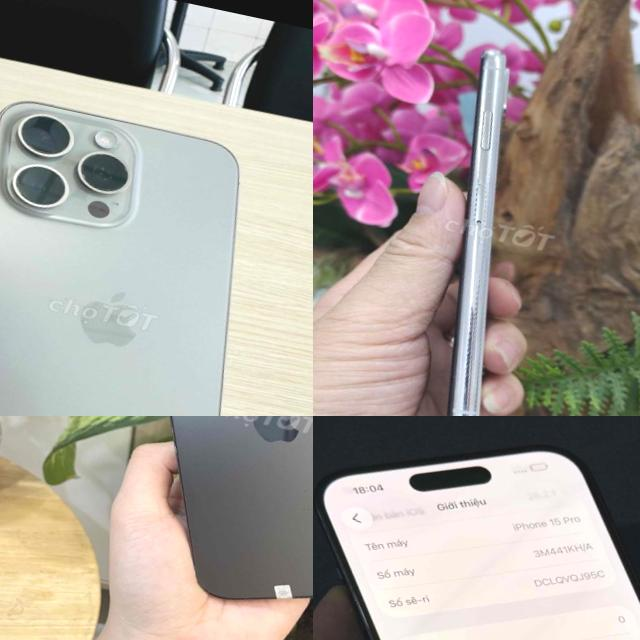gen_12_13: (77, 416, 313, 640)
gen_15: (0, 68, 307, 416), (313, 416, 640, 640)
gen_x_xs: (382, 35, 565, 416)
scratch: (0, 103, 145, 227)
